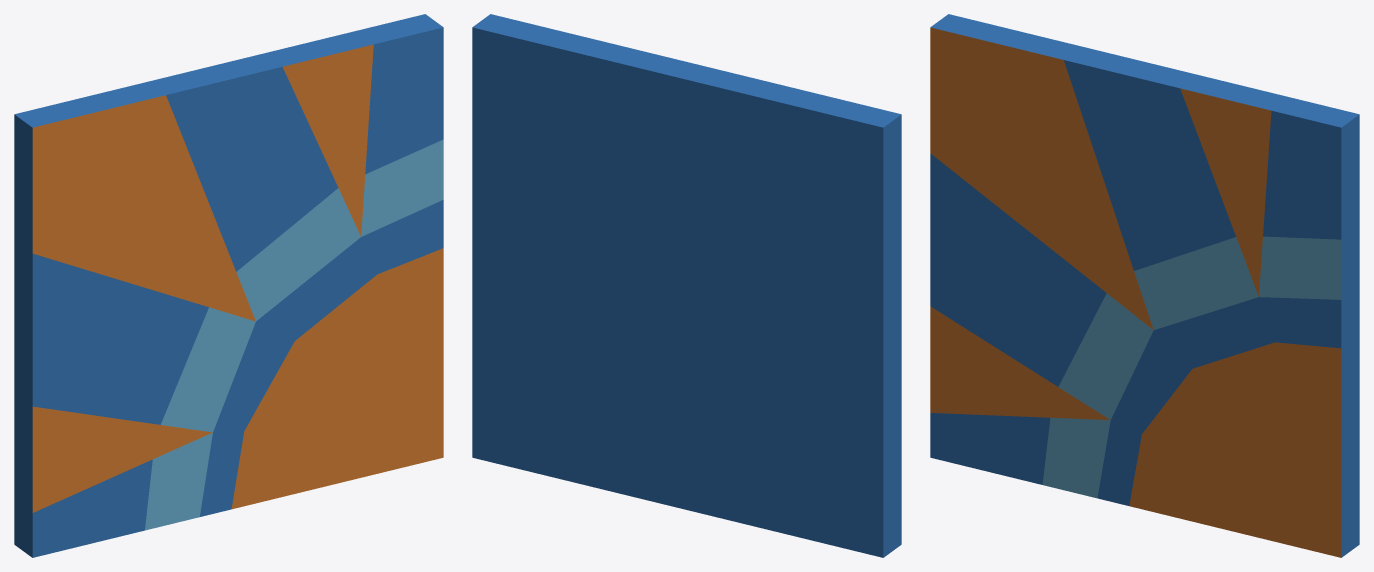
The model's file is poster_2.fbx.
3 views of the same model, side by side, from view 1: azimuth 30°, elevation 25°; view 2: azimuth 150°, elevation 25°; view 3: azimuth 330°, elevation 25° (orthographic).
Parts seen in each view (by area): view 1: poster 2; view 2: poster 2; view 3: poster 2.
Boxes of the visible parts, left/top/right/bottom form: poster 2: left=14, top=14, right=443, bottom=557; poster 2: left=472, top=14, right=901, bottom=557; poster 2: left=930, top=14, right=1359, bottom=557.
Bounding box in the file's own units: 3136 × 3136 × 242.
